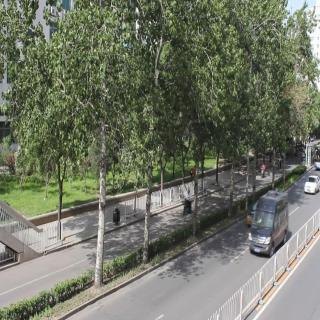Car: (249, 187, 290, 262), (304, 170, 320, 199)
